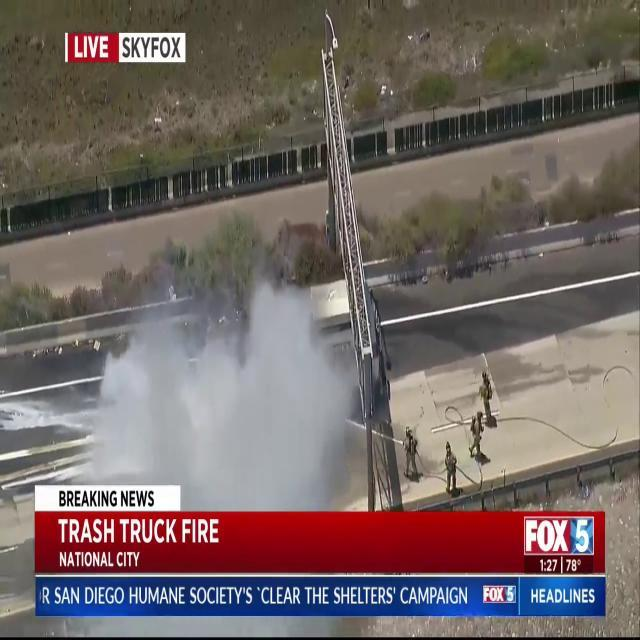Smoke: (86, 262, 359, 508)
